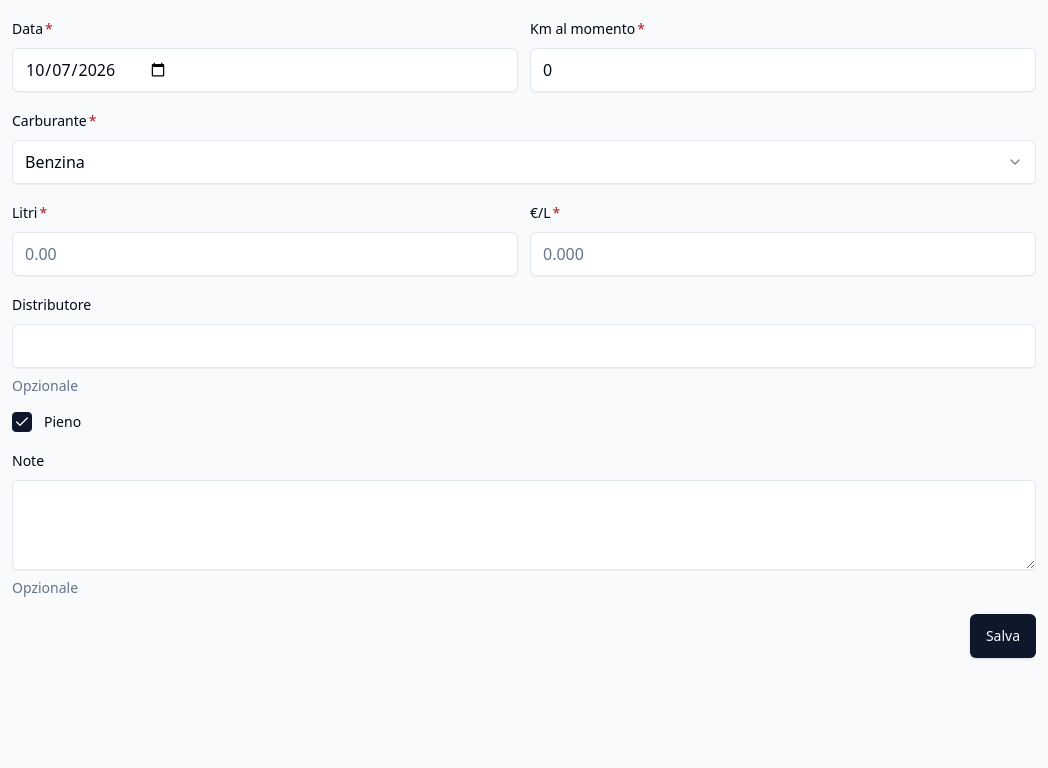
Test: RefuelingForm › il totale in anteprima si calcola anche con la virgola
This screenshot has width=1048, height=768.
Type "40,0" into the field labelled "Litri*".
click(265, 254); type("40,0")  # box [12, 232, 518, 276]
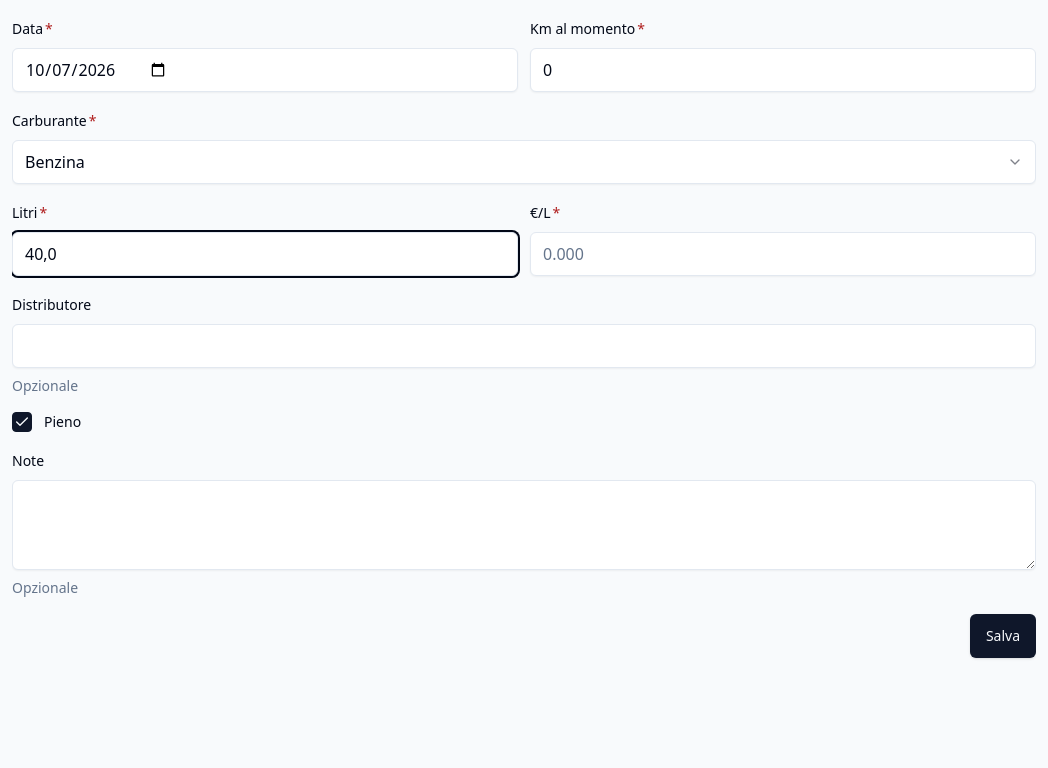
Type "1,5" into the field labelled "€/L*".
click(783, 254); type("1,5")  # box [530, 232, 1036, 276]
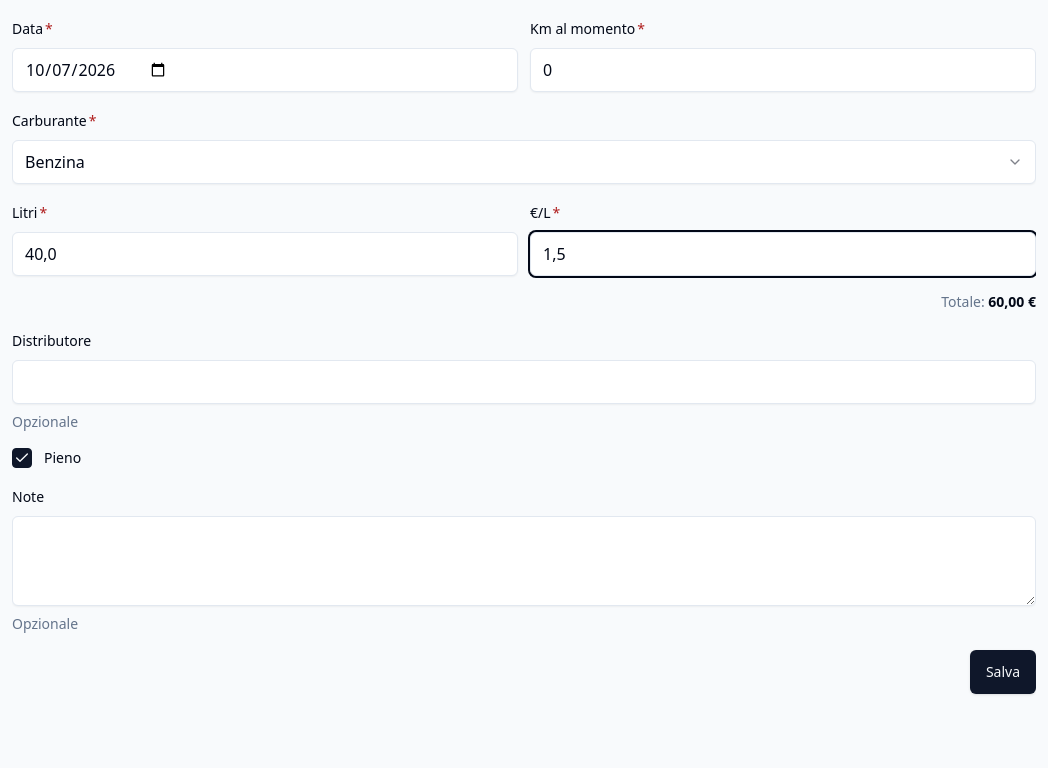
Result: the text "60,00 €" is shown at [988, 292, 1036, 311]
